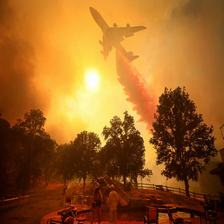fire: (104, 14, 155, 90)
